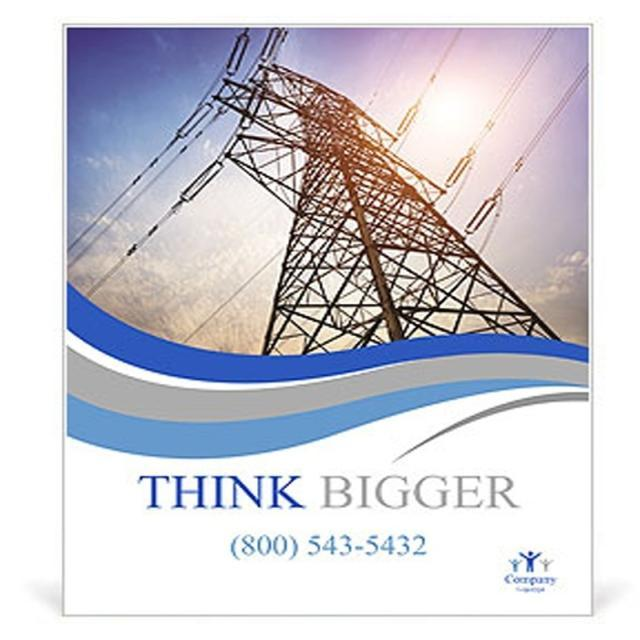non-critical vegetation: (195, 48, 564, 336)
